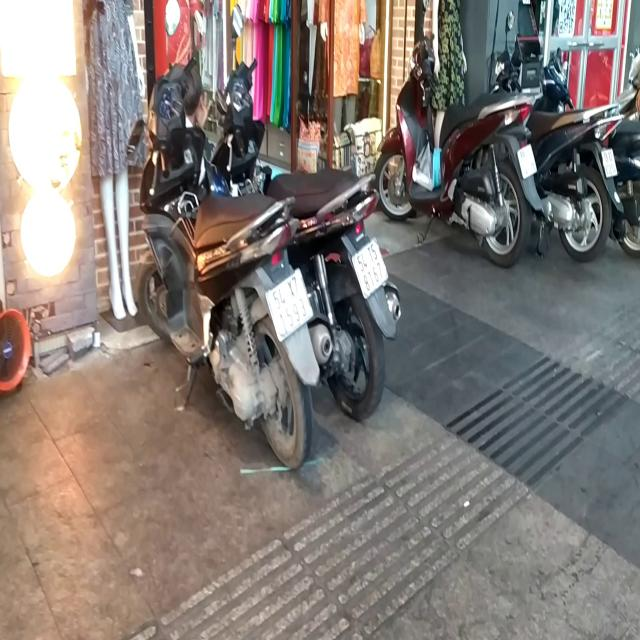bien_trang: (262, 261, 321, 343), (348, 233, 388, 299)
